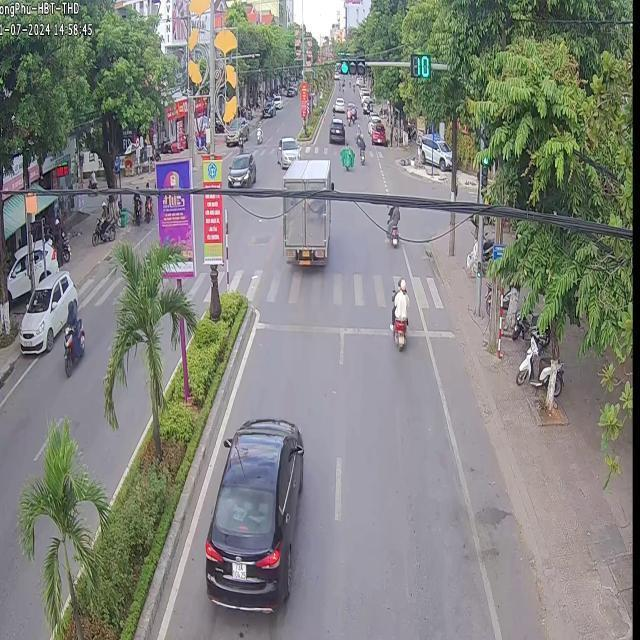car: (203, 418, 302, 610), (18, 269, 76, 351), (280, 196, 329, 265), (282, 158, 332, 189), (227, 151, 254, 185), (274, 134, 298, 167)
green_light: (409, 52, 430, 78), (337, 56, 365, 74), (480, 151, 488, 200)
motobike: (390, 278, 408, 349), (62, 318, 83, 376), (384, 205, 398, 245)
stop_line: (255, 320, 388, 338)
